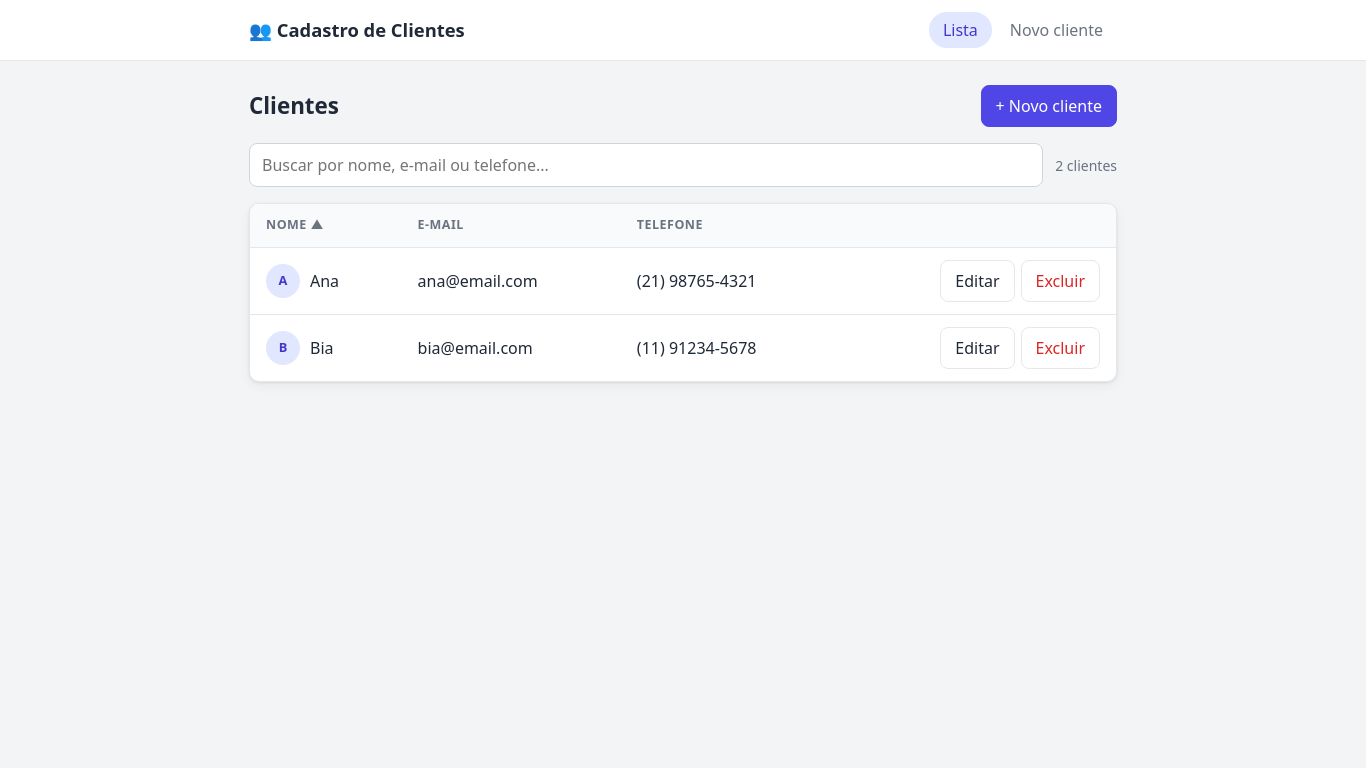
Test: Edição e exclusão › edita um cliente
Click the link "Editar" in the row of "ana@email.com" at (977, 281), box x1=940 y1=260 x2=1014 y2=302
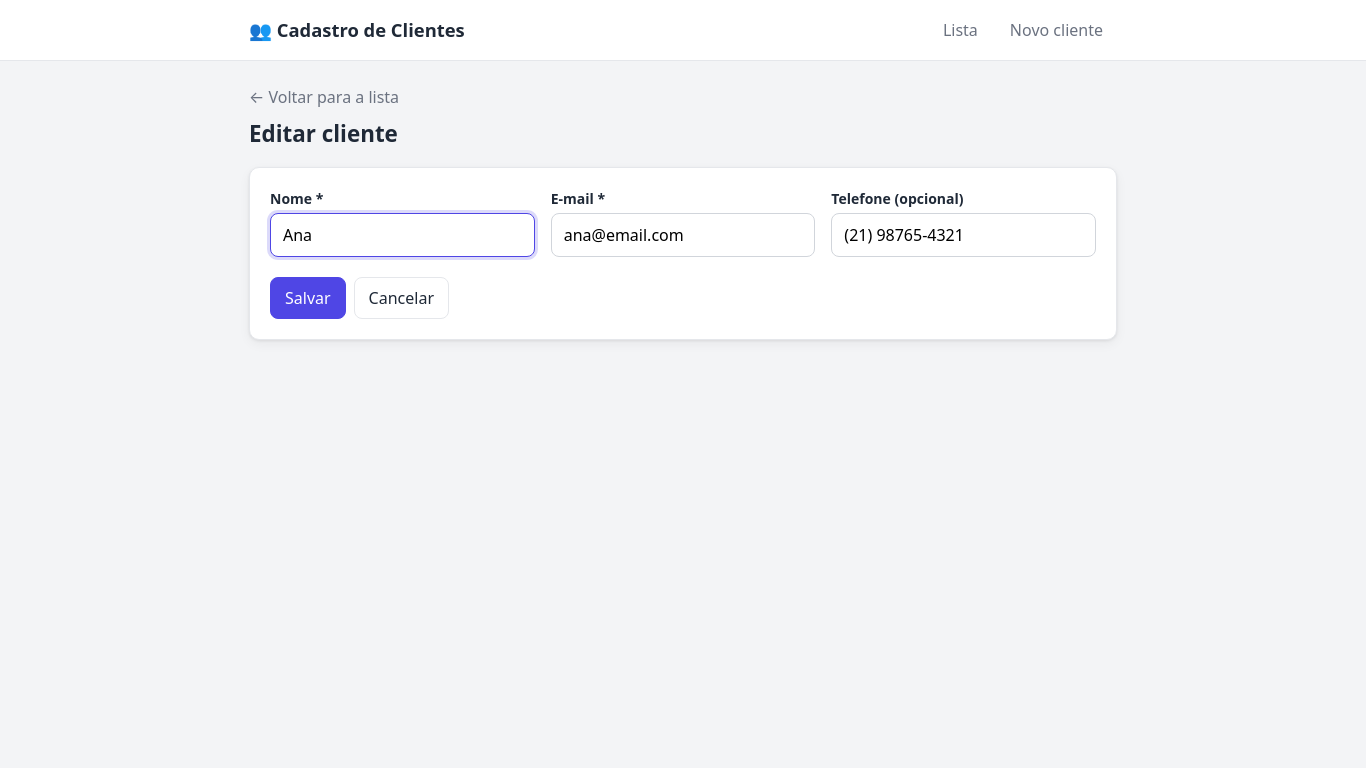
Expected: the field with placeholder "Nome" holds "Ana"
Replace the text in the field with placeholder "Nome" with "Ana Paula" at (403, 235), box x1=270 y1=213 x2=535 y2=257
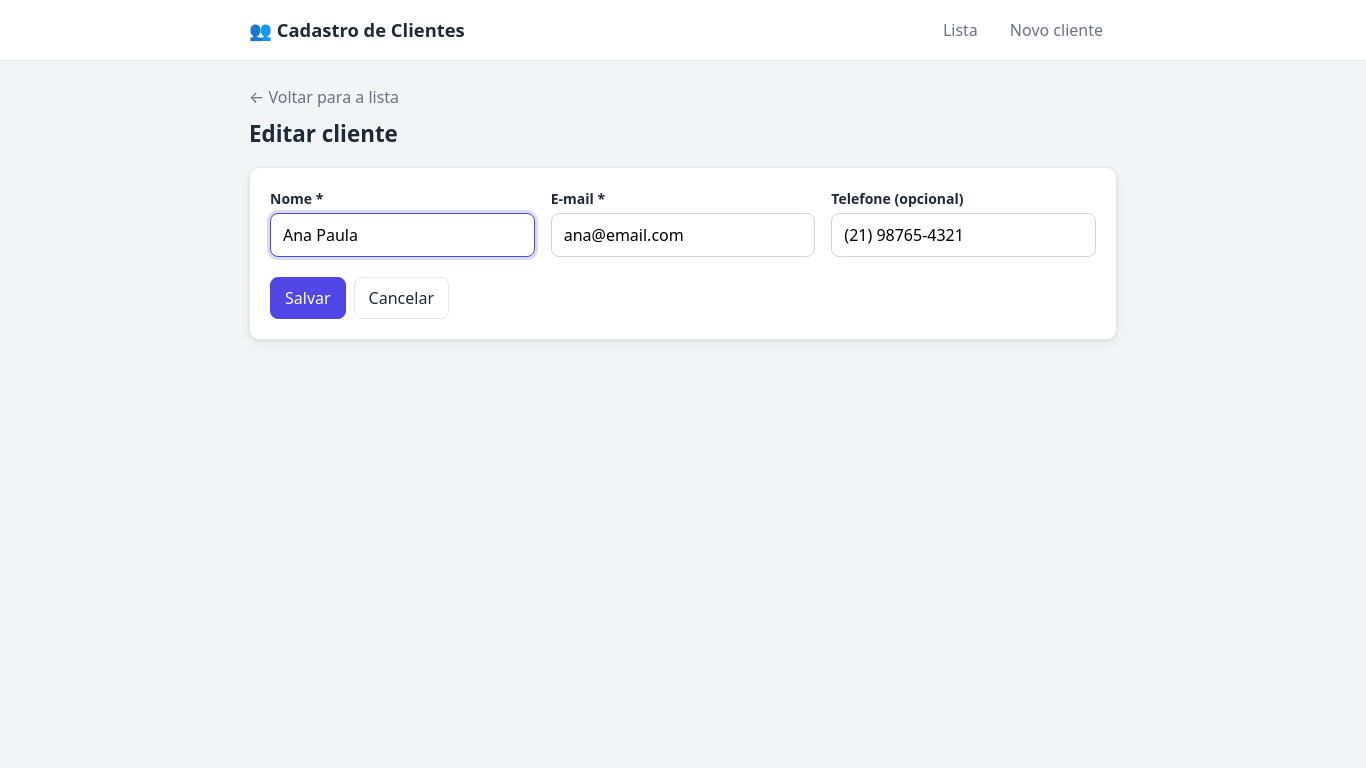
Click the button "Salvar" at (308, 298), box x1=270 y1=277 x2=346 y2=319
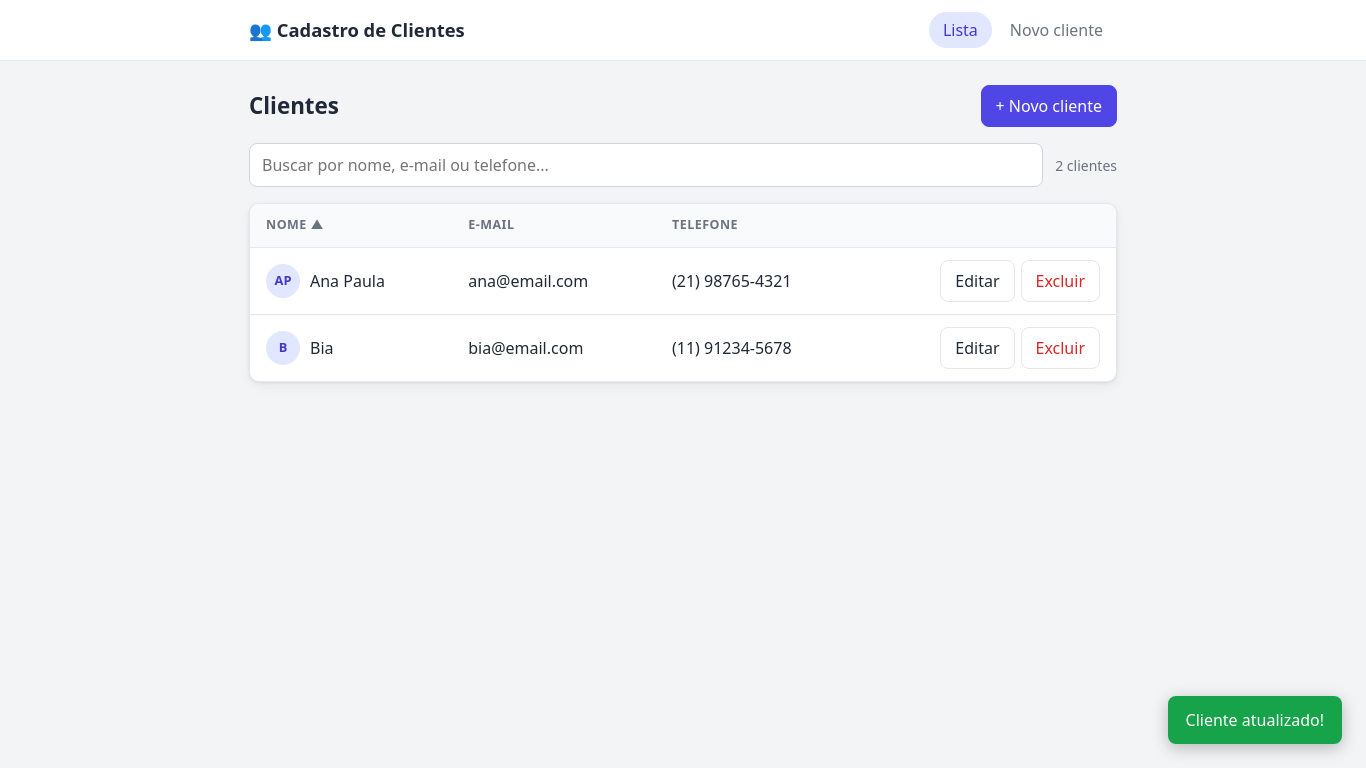
Expected: the text "Cliente atualizado!" is shown, x1=1168 y1=696 x2=1342 y2=744
Expected: the text "Ana Paula" is shown, x1=310 y1=270 x2=385 y2=292
